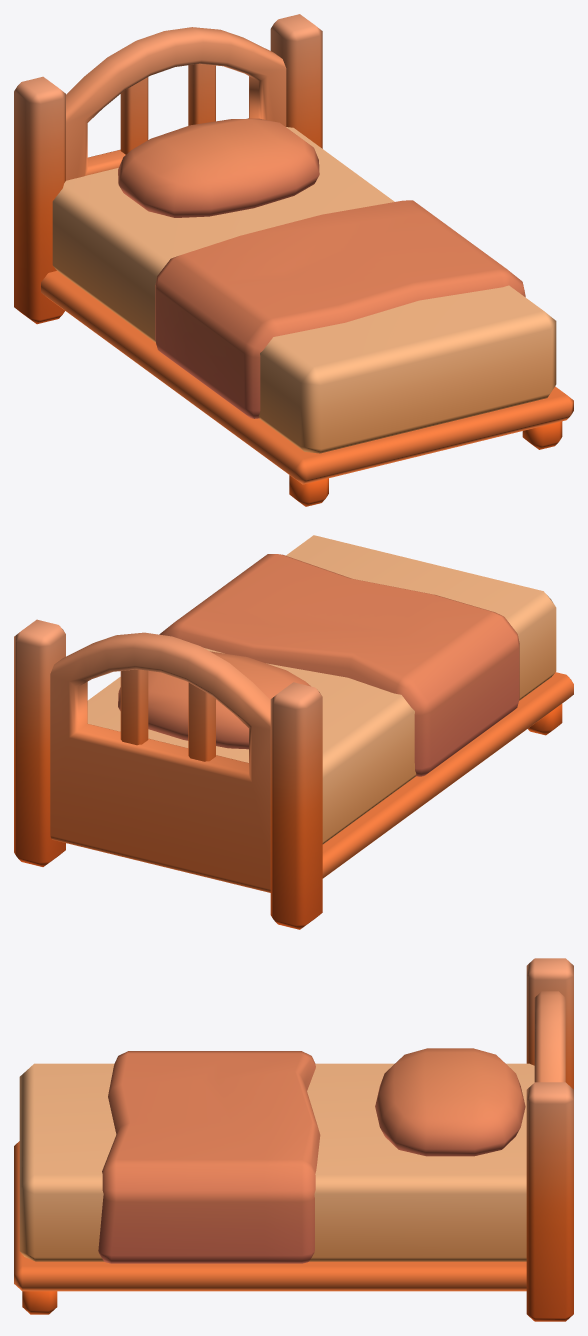
The model's file is Furniture_Bedroom_1.fbx.
The picture shows the model from 3 angles, top to bottom: view 1: azimuth 30°, elevation 25°; view 2: azimuth 150°, elevation 25°; view 3: azimuth 270°, elevation 25°; orthographic projection.
Parts seen in each view (by area): view 1: Furniture_Bedroom_1; view 2: Furniture_Bedroom_1; view 3: Furniture_Bedroom_1.
Boxes of the visible parts, box(x1,y1,x2,y2) form: Furniture_Bedroom_1: box(14, 14, 573, 506); Furniture_Bedroom_1: box(14, 535, 573, 929); Furniture_Bedroom_1: box(14, 958, 573, 1321).
Size of the model in its own units: 192 by 157 by 320.
